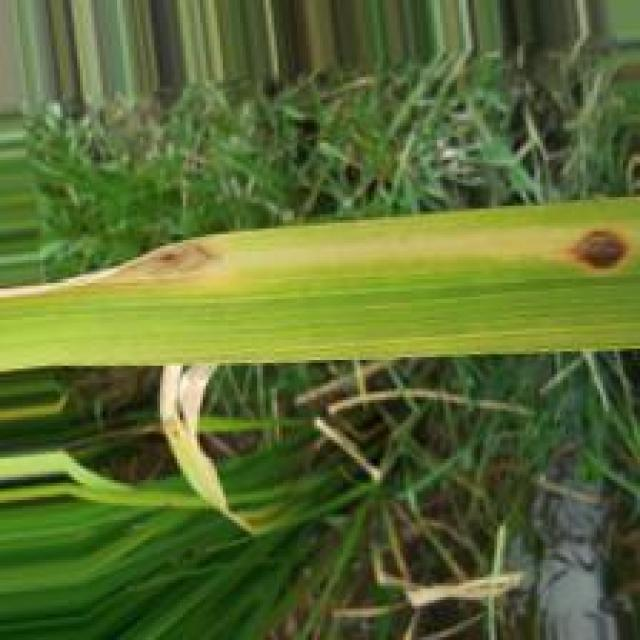Brown_Spot: (97, 239, 228, 285), (557, 224, 634, 279)
